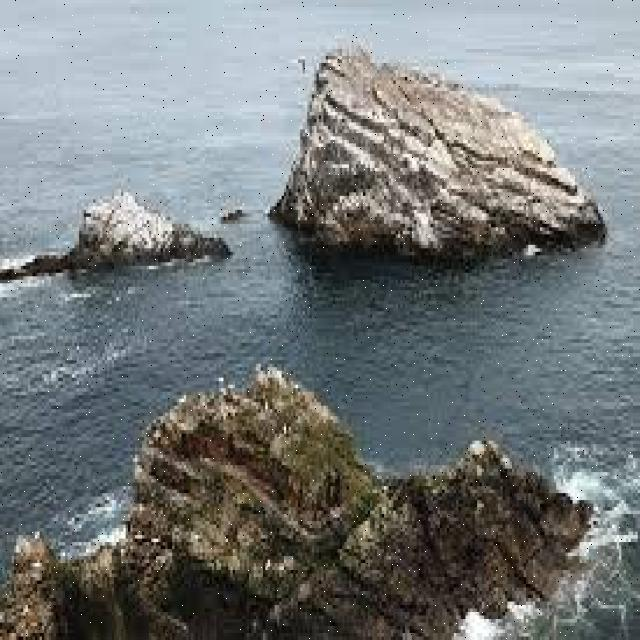Metamorphic: (2, 353, 598, 637), (274, 39, 616, 262), (2, 189, 238, 266)
